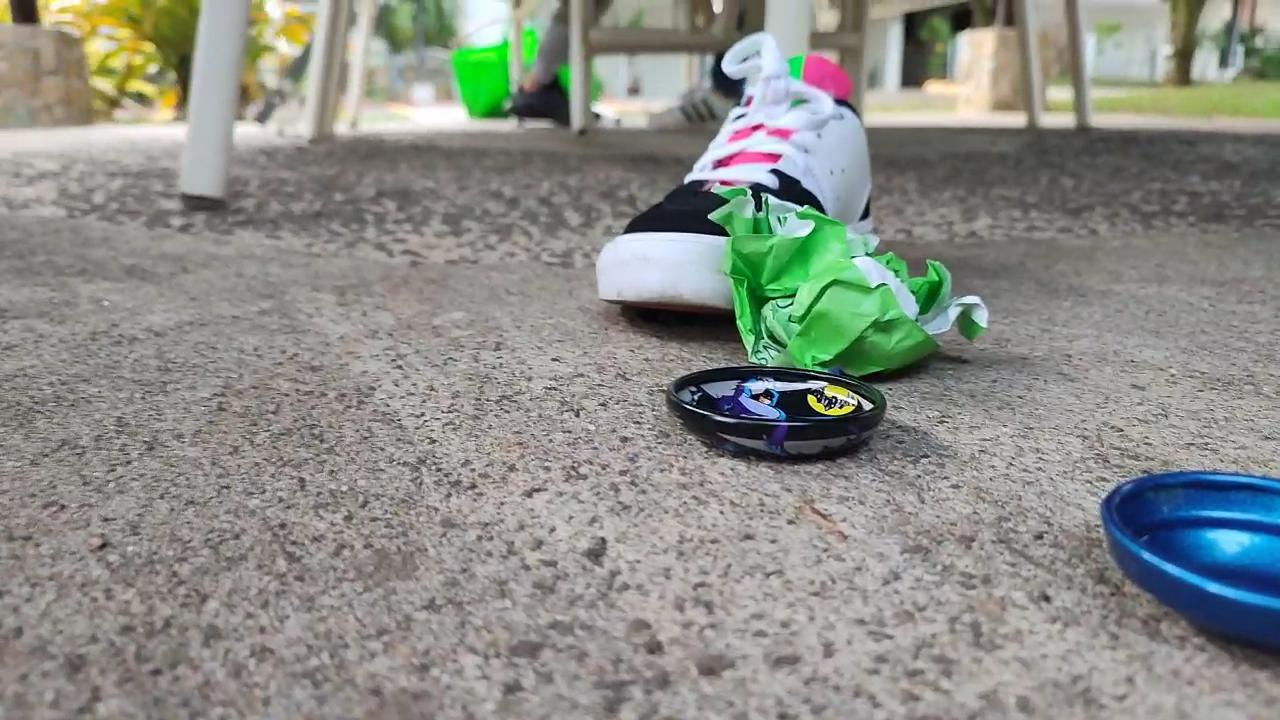Paper: (694, 174, 992, 388)
